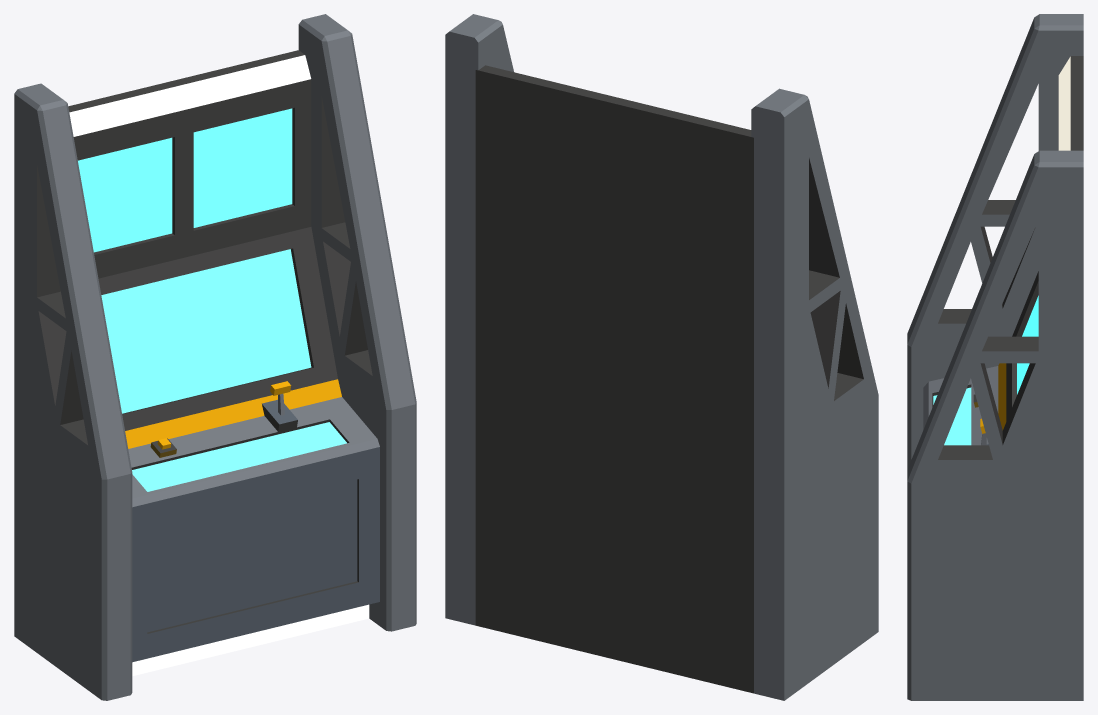
The model's file is wall_bank_flight_ops.glb.
3 renders of one model, left to right at view 1: azimuth 30°, elevation 25°; view 2: azimuth 150°, elevation 25°; view 3: azimuth 270°, elevation 25°, orthographic. The views are drawn at different scales.
Visible parts, largest first — view 1: wall_bank_flight_ops; view 2: wall_bank_flight_ops; view 3: wall_bank_flight_ops.
Part boxes in pixels (x1=…): wall_bank_flight_ops: x1=14, y1=14, x2=416, y2=700; wall_bank_flight_ops: x1=445, y1=14, x2=878, y2=700; wall_bank_flight_ops: x1=907, y1=14, x2=1083, y2=700.
Size of the model in its own units: 1.34 by 2.22 by 0.66.
